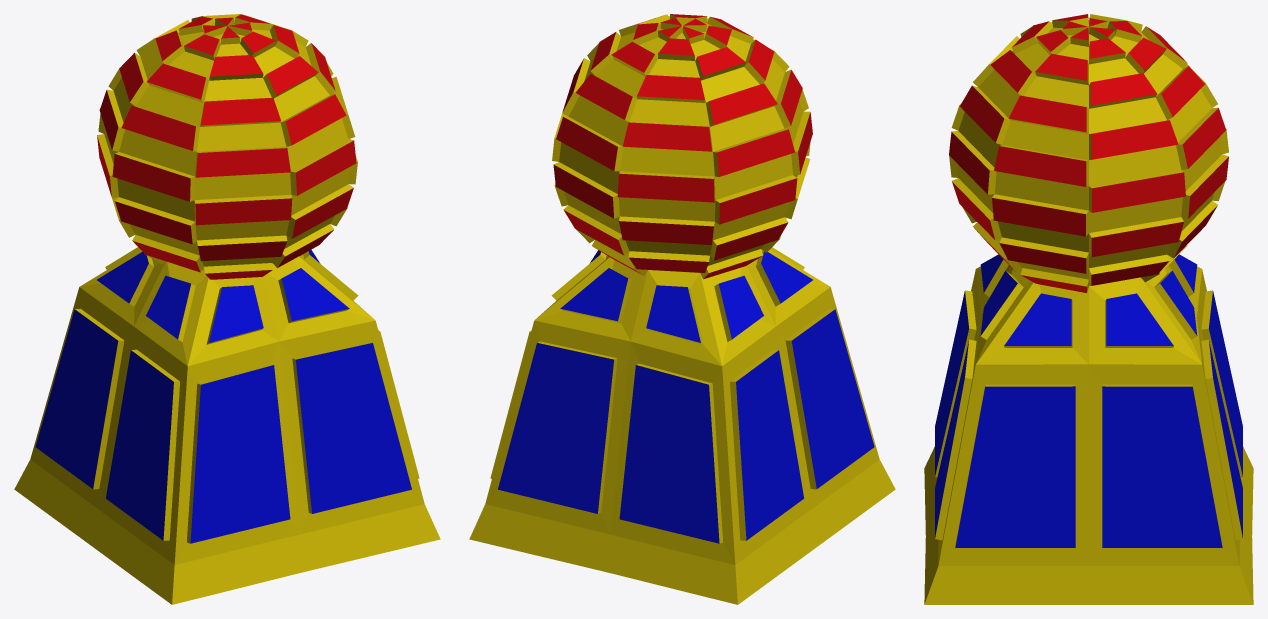
File: Pawn.fbx
3 renders of one model, left to right at view 1: azimuth 30°, elevation 25°; view 2: azimuth 150°, elevation 25°; view 3: azimuth 270°, elevation 25°, orthographic. The views are drawn at different scales.
Parts seen in each view (by area): view 1: Pawn; view 2: Pawn; view 3: Pawn.
Part boxes in pixels (bbox=[...]): Pawn: bbox=[14, 14, 440, 604]; Pawn: bbox=[469, 14, 895, 604]; Pawn: bbox=[924, 14, 1253, 604].
Size of the model in its own units: 430 by 747 by 437.
